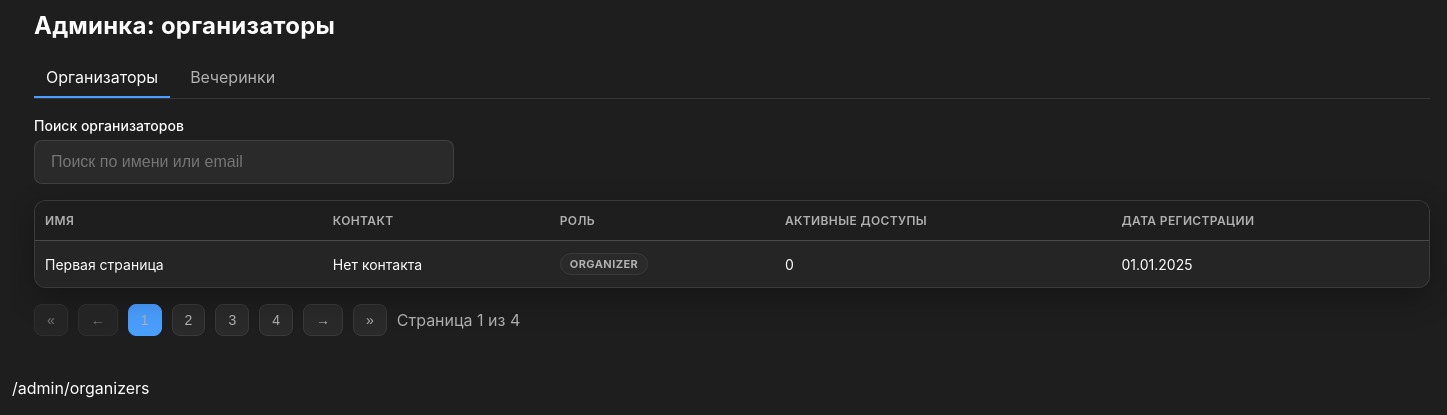
AdminOrganizersPage pagination behavior › ignores an older response when a newer search has completed
The width and height of the screenshot is (1447, 415).
Expected: the link "Первая страница" is shown, [45, 256, 164, 272]
Step 1. Click the button named "Следующая страница" → point(323, 320), box [303, 304, 343, 336]
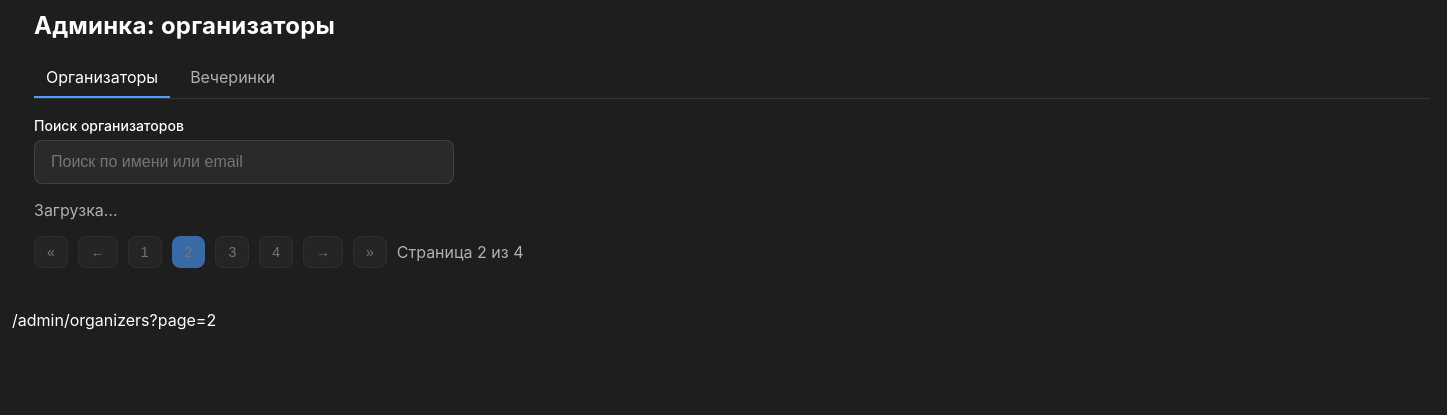
Step 2. Type "Ирина" into the search field labelled "Поиск организаторов" → point(244, 162), box [34, 140, 454, 184]
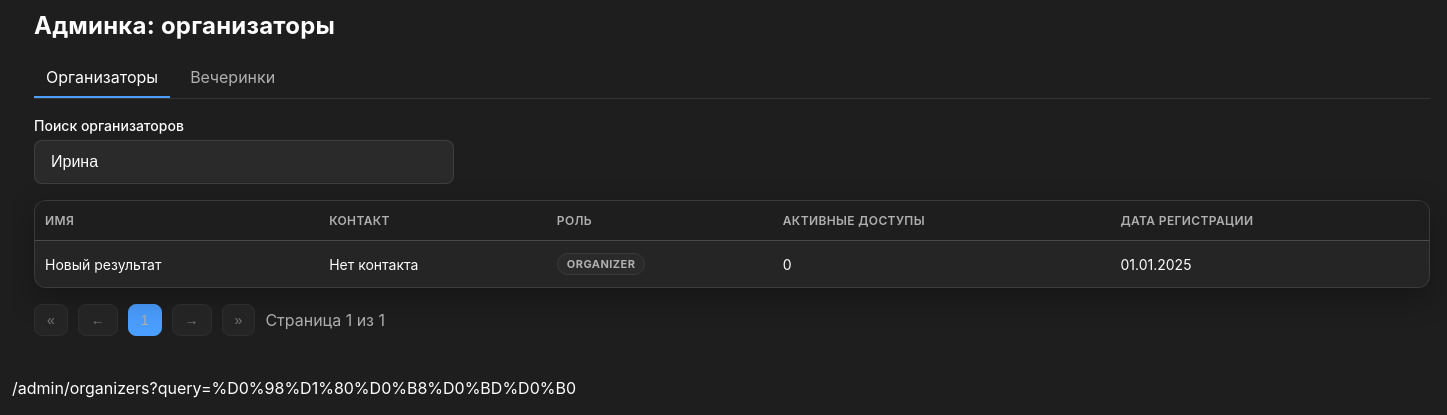
Now the link "Новый результат" is shown, box [45, 256, 161, 272]
